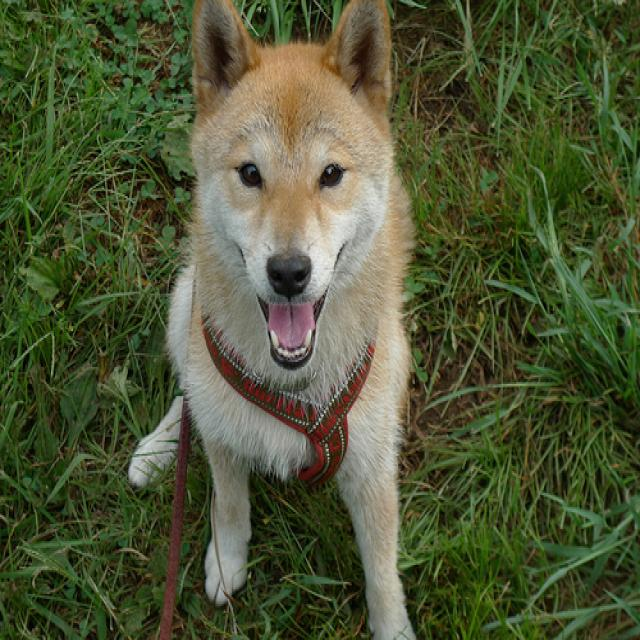dog-shiba_inu: (122, 2, 424, 637)
